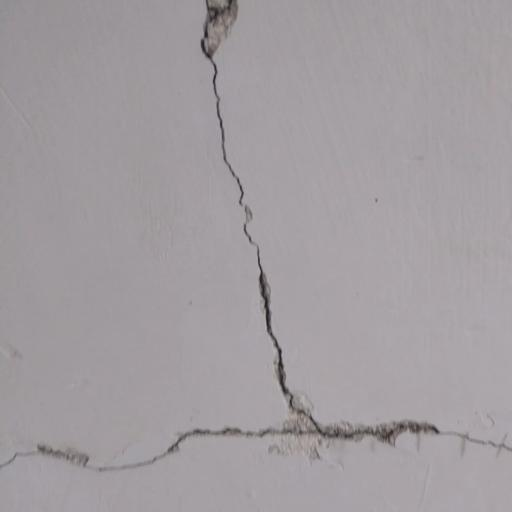major_crack: (184, 0, 374, 438), (0, 392, 512, 486)
